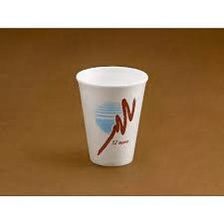paper_cup: (70, 61, 151, 169)
